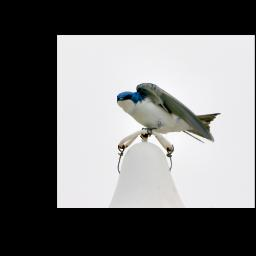Swallow: (116, 83, 222, 146)
